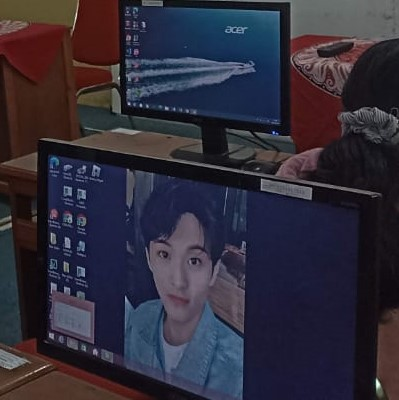monitor: (35, 138, 383, 395), (116, 0, 292, 165)
